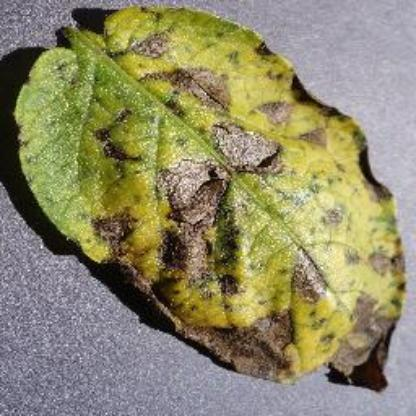Early-Blight: (16, 8, 408, 390)
